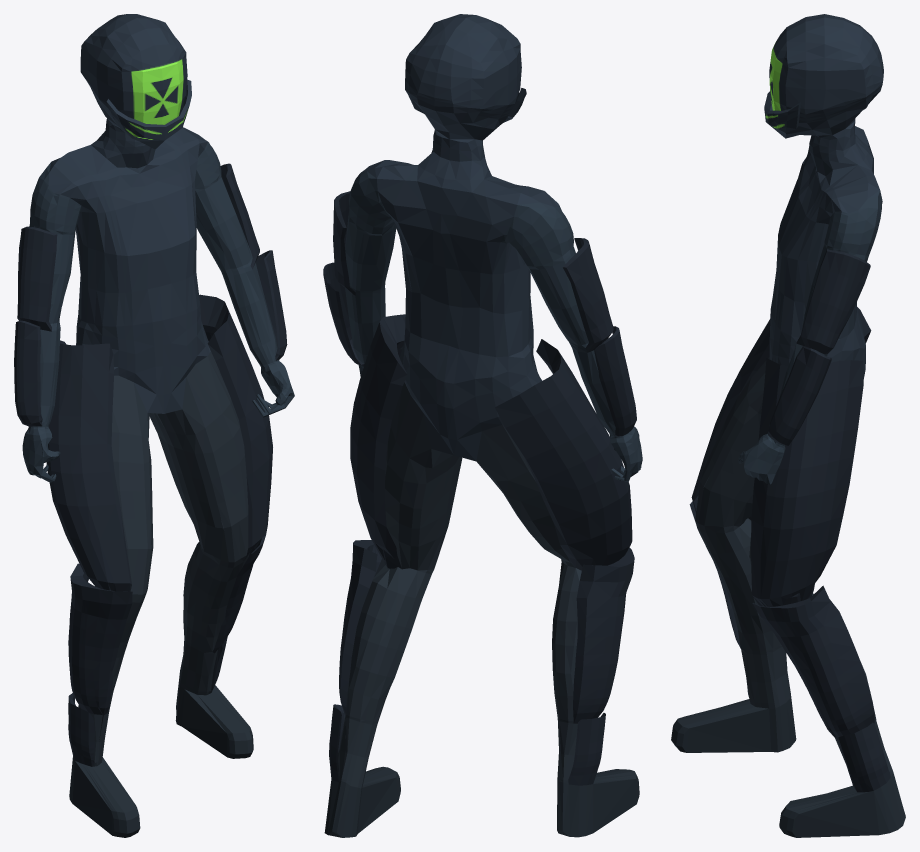
Rendered from Bastion_Stun_Recover_000012.obj.
3 renders of one model, left to right at view 1: azimuth 30°, elevation 25°; view 2: azimuth 150°, elevation 25°; view 3: azimuth 270°, elevation 25°, orthographic. The views are drawn at different scales.
Parts seen in each view (by area): view 1: Cube.002; view 2: Cube.002; view 3: Cube.002.
Part boxes in pixels (x1,y1,x2,y2): Cube.002: (14,14,294,837); Cube.002: (323,14,642,837); Cube.002: (671,14,905,837).
Size of the model in its own units: 1.43 by 3.78 by 1.05.
